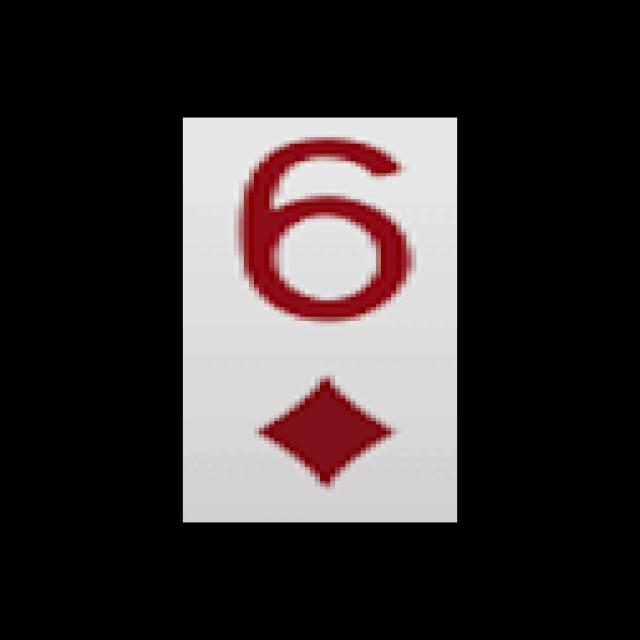6D: (199, 128, 431, 499)
